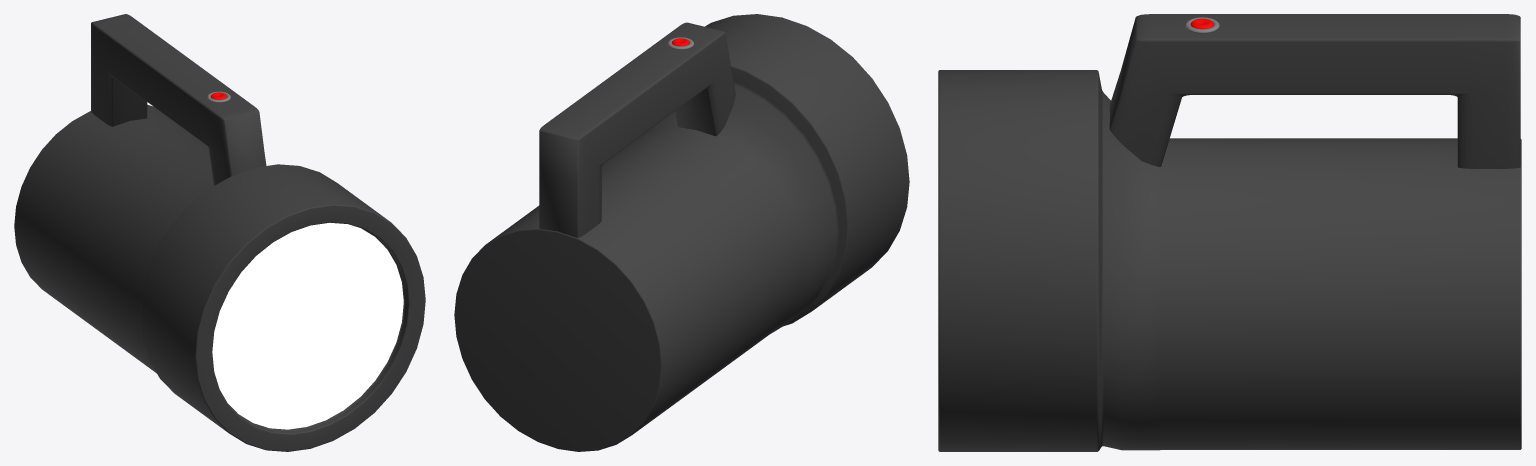
File: flashlight.glb
3 views of the same model, side by side, from view 1: azimuth 30°, elevation 25°; view 2: azimuth 150°, elevation 25°; view 3: azimuth 270°, elevation 25° (orthographic). The views are drawn at different scales.
Parts seen in each view (by area): view 1: Cylinder, Cylinder.001, Cube; view 2: Cylinder, Cube; view 3: Cylinder, Cube.
Boxes of the visible parts, box(x1,y1,x2,y2) form: Cylinder: box(14, 104, 425, 451); Cylinder.001: box(212, 222, 403, 429); Cube: box(91, 14, 266, 185); Cylinder: box(454, 14, 909, 451); Cube: box(539, 22, 735, 237); Cylinder: box(938, 70, 1521, 451); Cube: box(1109, 14, 1520, 168).
Size of the model in its own units: 245 by 292 by 374.
